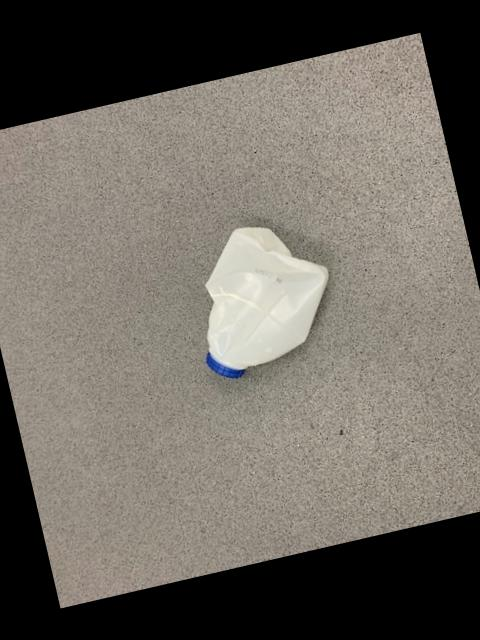plastic: (204, 229, 326, 371)
